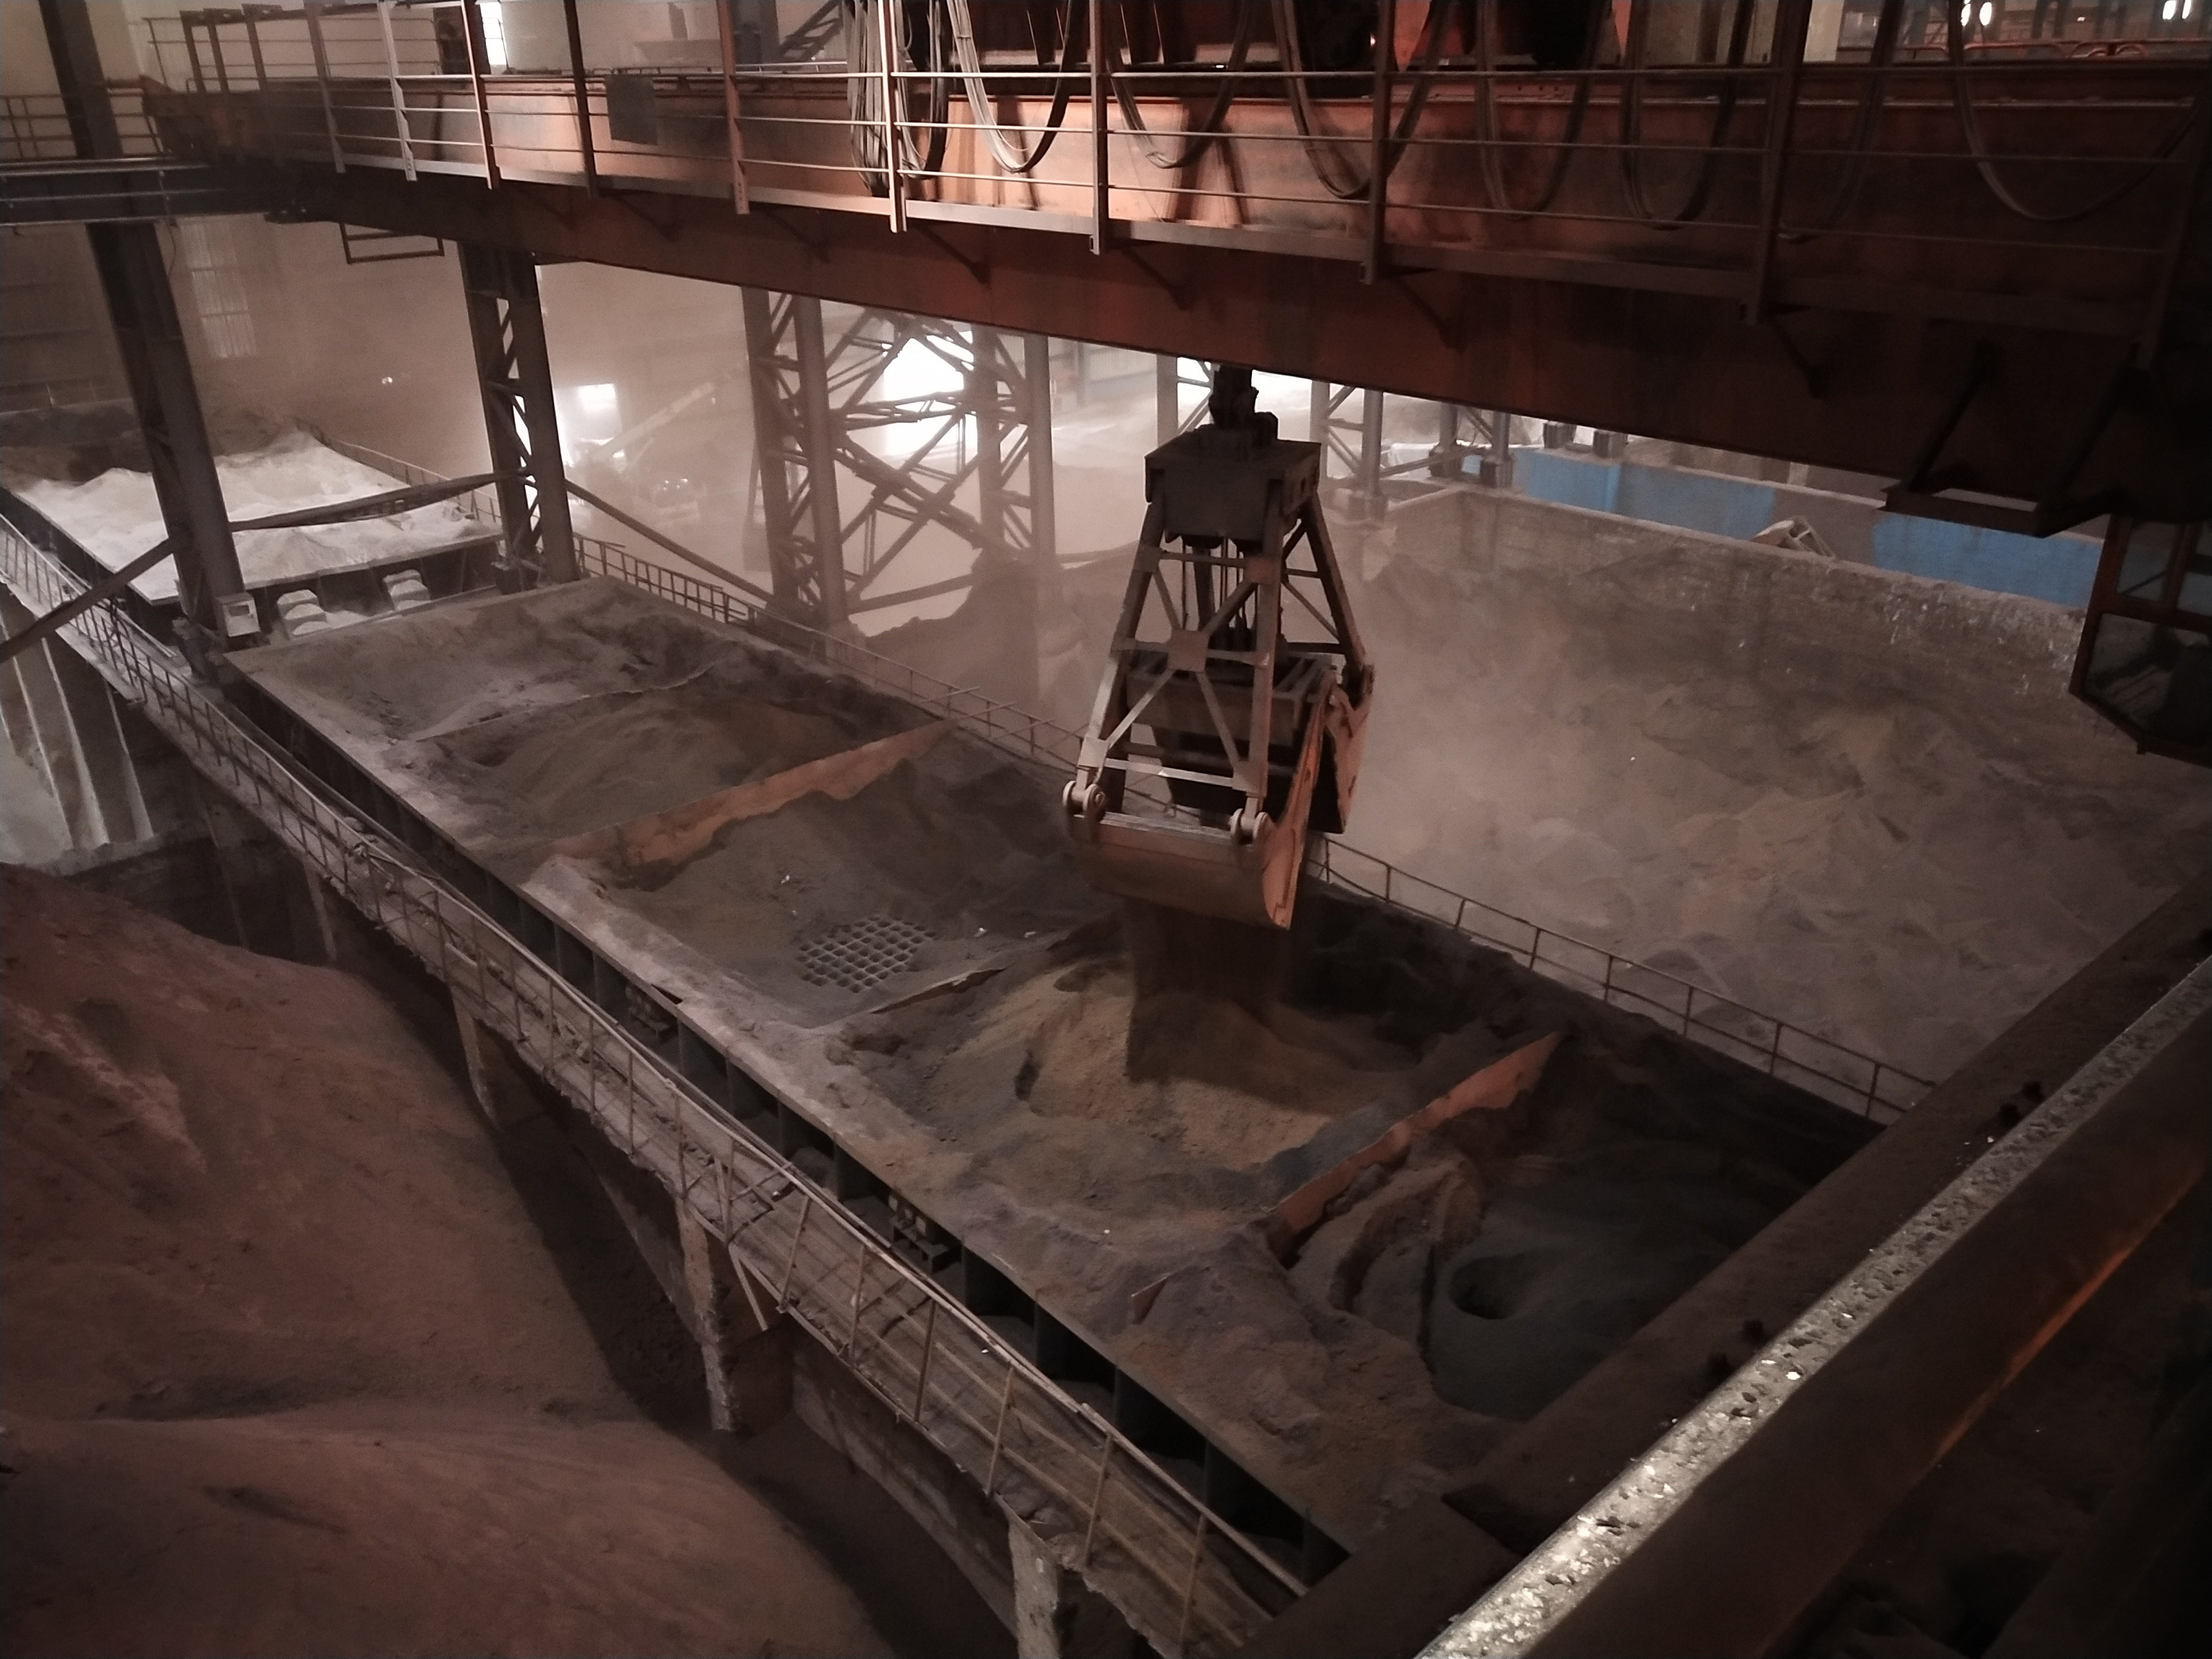dust: (1383, 617, 1745, 884)
grab: (1049, 340, 1416, 920)
